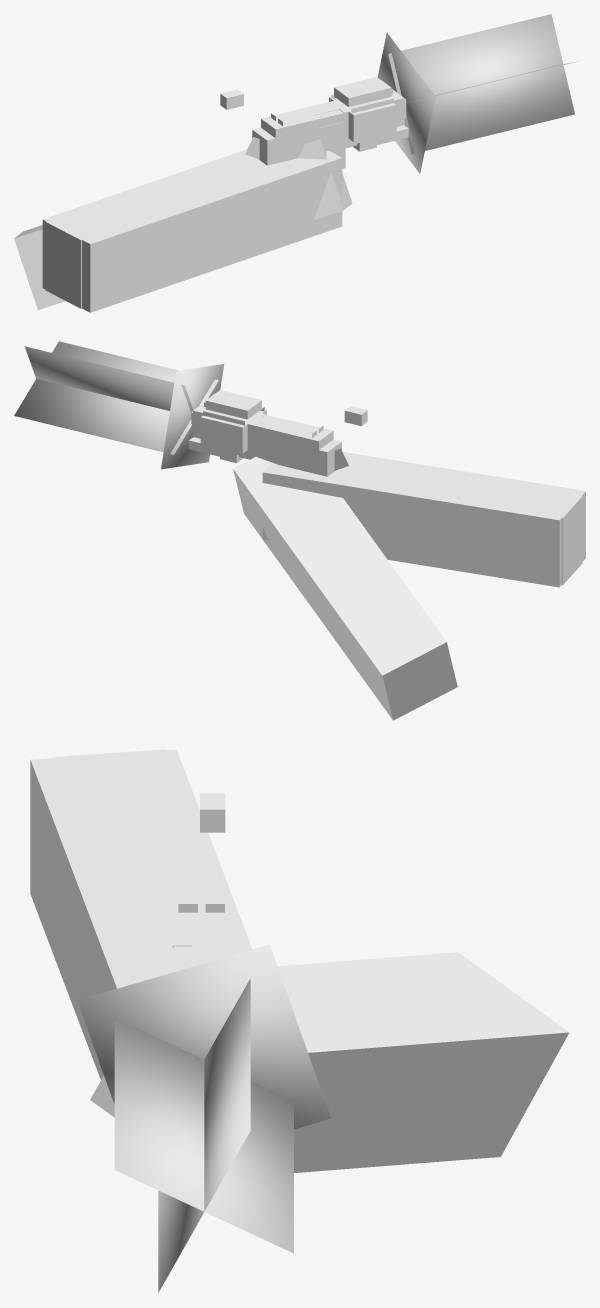
The model's file is lev.sr1.glb.
3 renders of one model, top to bottom at view 1: azimuth 30°, elevation 25°; view 2: azimuth 150°, elevation 25°; view 3: azimuth 270°, elevation 25°, orthographic. The views are drawn at different scales.
Visible parts, largest first — view 1: rightArmLayerModel, flashModel, p, cube.023, leftArmLayerSlimModel, rightArmLayerSlimModel, cube, shellEffect; view 2: rightArmLayerModel, leftArmLayerModel, flashModel, p, leftArmLayerSlimModel, cube.023, rightArmLayerSlimModel, cube; view 3: flashModel, leftArmLayerModel, rightArmLayerModel, cube.023, leftArmLayerSlimModel, p, shellEffect.
Boxes of the visible parts, x1,y1,x2,y2 form: rightArmLayerModel: [42, 149, 342, 312]; flashModel: [377, 14, 582, 173]; p: [329, 77, 408, 151]; cube.023: [252, 89, 404, 149]; leftArmLayerSlimModel: [14, 138, 349, 309]; rightArmLayerSlimModel: [45, 151, 332, 308]; cube: [259, 99, 406, 168]; shellEffect: [220, 89, 243, 109]; rightArmLayerModel: [262, 451, 585, 587]; leftArmLayerModel: [233, 460, 457, 720]; flashModel: [14, 341, 224, 469]; p: [188, 390, 266, 463]; leftArmLayerSlimModel: [249, 457, 454, 695]; cube.023: [193, 401, 341, 460]; rightArmLayerSlimModel: [266, 464, 582, 585]; cube: [191, 411, 335, 476]; flashModel: [77, 944, 330, 1292]; leftArmLayerModel: [277, 952, 569, 1172]; rightArmLayerModel: [30, 749, 251, 1079]; cube.023: [172, 904, 230, 947]; leftArmLayerSlimModel: [90, 988, 336, 1117]; p: [153, 948, 230, 977]; shellEffect: [200, 793, 225, 832].
Size of what is drawn, in the model's own units: 23.66 by 10.52 by 10.69.
4 materials, 3 textured.
